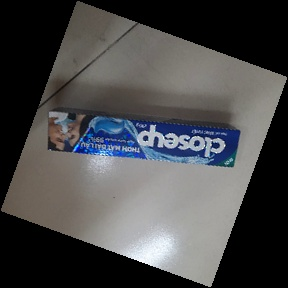CloseUp Tuyet: (47, 104, 241, 170)
